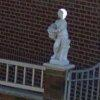Statue: (36, 3, 78, 67)
